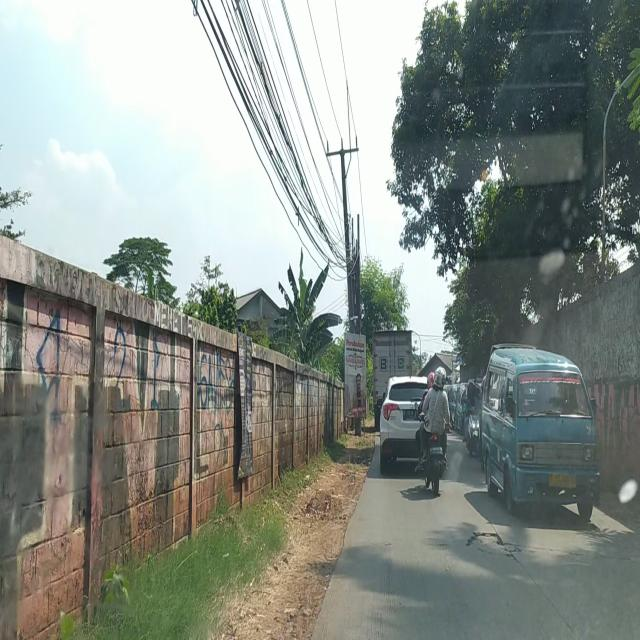Drain Hole: (466, 532, 523, 558)
